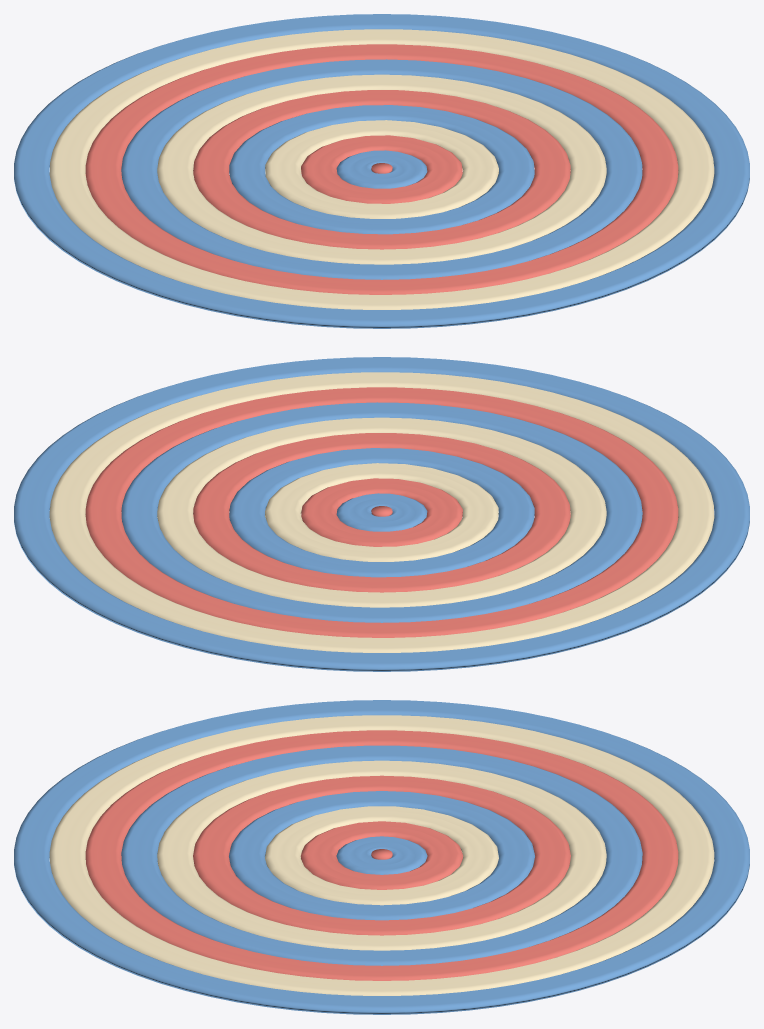
Rendered from TanksRug.obj.
3 renders of one model, top to bottom at view 1: azimuth 30°, elevation 25°; view 2: azimuth 150°, elevation 25°; view 3: azimuth 270°, elevation 25°, orthographic.
Visible parts, largest first — view 1: Outer, Middle, Inner; view 2: Outer, Middle, Inner; view 3: Outer, Middle, Inner.
Boxes of the visible parts, bbox=[...] form: Outer: bbox=[14, 14, 749, 328]; Middle: bbox=[49, 29, 714, 309]; Inner: bbox=[85, 44, 678, 294]; Outer: bbox=[14, 357, 749, 671]; Middle: bbox=[49, 372, 714, 652]; Inner: bbox=[85, 387, 678, 637]; Outer: bbox=[14, 700, 749, 1014]; Middle: bbox=[49, 715, 714, 995]; Inner: bbox=[85, 730, 678, 980].
Size of the model in its own units: 45.2 by 0.42 by 45.16.
